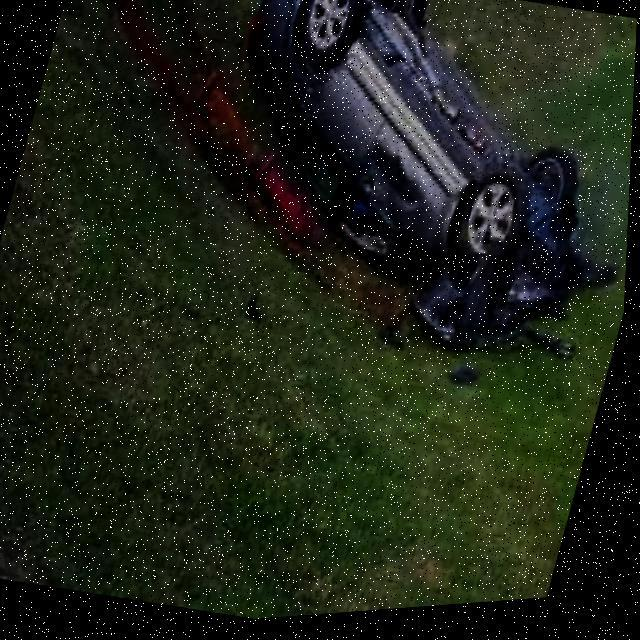Car Accident Detector - v4 Generation1 Exported: (172, 0, 640, 407)
